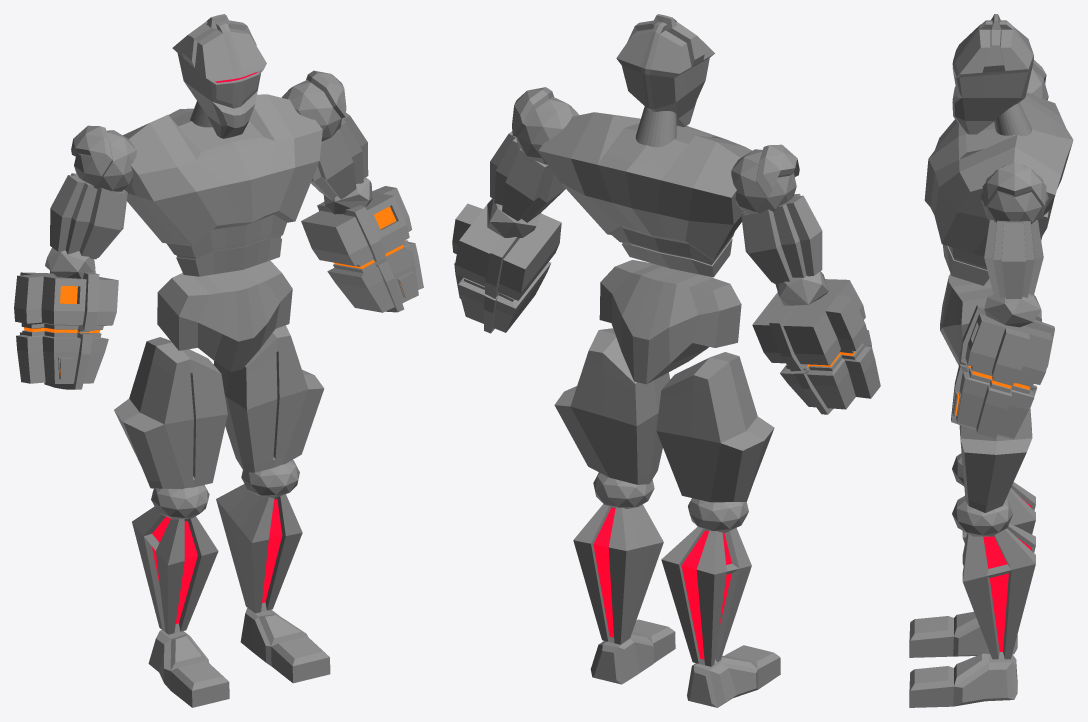
Rendered from cyborg.glb.
3 renders of one model, left to right at view 1: azimuth 30°, elevation 25°; view 2: azimuth 150°, elevation 25°; view 3: azimuth 270°, elevation 25°, orthographic. The views are drawn at different scales.
Visible parts, largest first — view 1: Cube.024, Cube.020, Cube.026, Cube.021, Cube.023, Cube.025, Cube.022, Cube.029, Icosphere.005, Icosphere.004, Icosphere.011; view 2: Cube.020, Cube.024, Cube.026, Cube.021, Cube.023, Cube.025, Cube.022, Cube.029, Icosphere.005, Icosphere.004, Icosphere.011, Cylinder.002; view 3: Cube.024, Cube.026, Cube.021, Cube.022, Cube.029, Cube.020, Cube.025, Icosphere.005, Cube.023, Icosphere.004, Icosphere.011, Cylinder.002.
Part boxes in pixels (x1,y1,x2,y2): Cube.024: (123,94,322,276); Cube.020: (114,325,324,489); Cube.026: (14,186,423,389); Cube.021: (132,484,302,634); Cube.023: (157,260,292,371); Cube.025: (50,113,368,259); Cube.022: (148,608,330,707); Cube.029: (172,14,266,138); Icosphere.005: (71,70,346,191); Icosphere.004: (151,460,299,519); Icosphere.011: (45,177,372,278); Cube.020: (554,328,774,502); Cube.024: (538,112,751,277); Cube.026: (452,198,880,414); Cube.021: (573,504,751,666); Cube.023: (599,260,741,384); Cube.025: (490,131,822,283); Cube.022: (590,619,780,707); Cube.029: (616,14,714,127); Icosphere.005: (512,87,799,213); Icosphere.004: (593,472,748,532); Icosphere.011: (487,198,828,305); Cylinder.002: (635,106,676,147); Cube.024: (924,93,1073,285); Cube.026: (951,201,1054,439); Cube.021: (962,482,1035,659); Cube.022: (909,611,1017,707); Cube.029: (952,14,1033,134); Cube.020: (959,408,1032,512); Cube.025: (984,220,1043,298); Icosphere.005: (980,60,1048,223); Cube.023: (940,273,1041,365); Icosphere.004: (952,453,1013,536); Icosphere.011: (984,292,1041,327); Cylinder.002: (994,102,1031,136).
Size of the model in its own units: 2.95 by 4.62 by 1.05.
